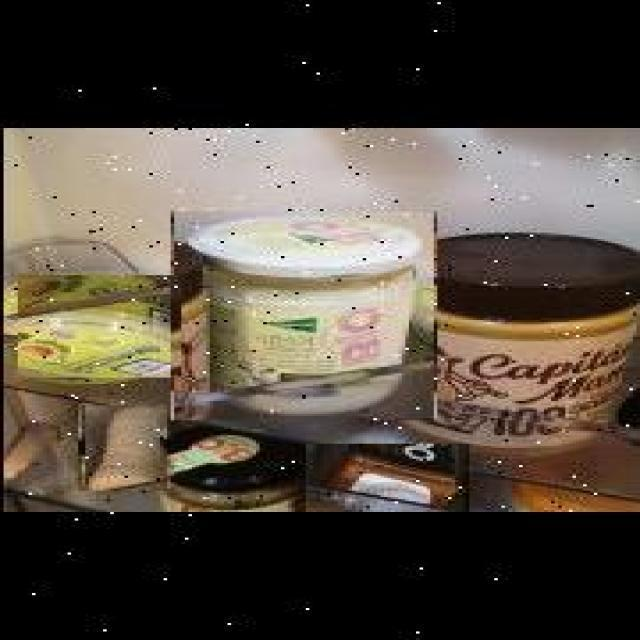guacamole: (12, 276, 176, 379)
yogurt: (170, 211, 434, 420), (302, 443, 466, 512), (78, 406, 164, 490)
